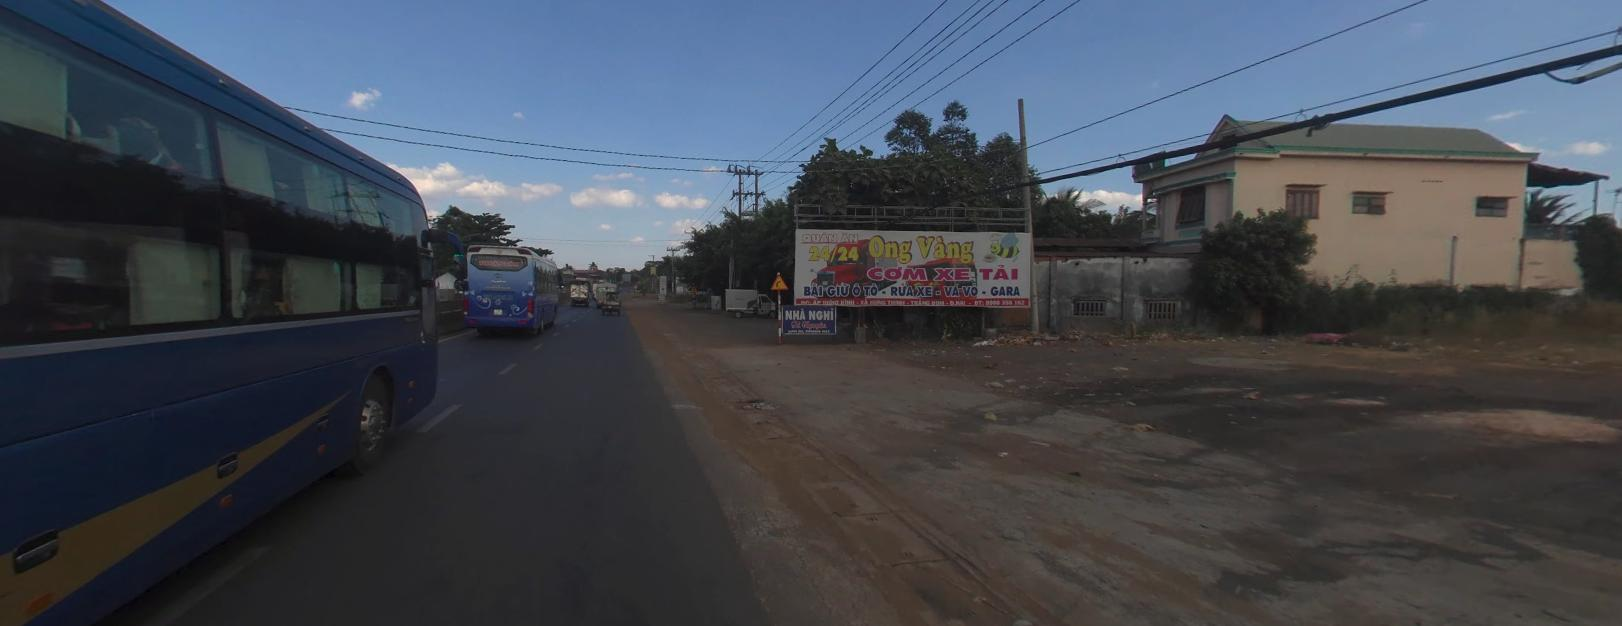Nguy hiem: (770, 273, 787, 288)
